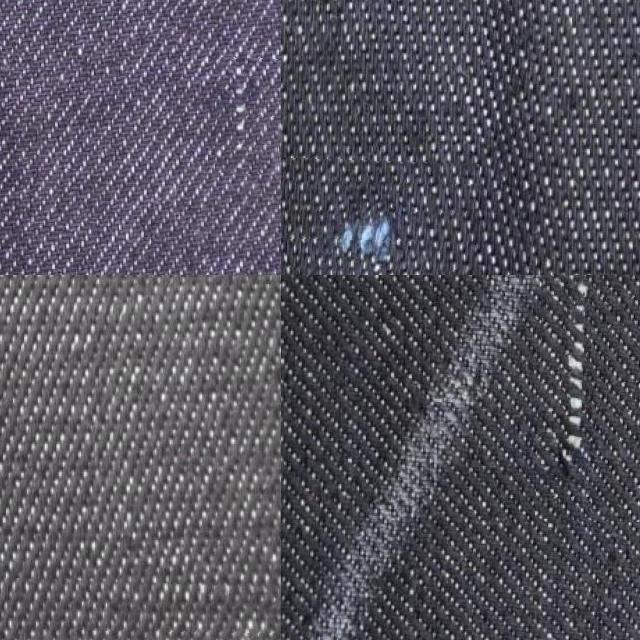stains: (537, 275, 640, 522), (281, 159, 478, 275), (216, 58, 281, 175)
